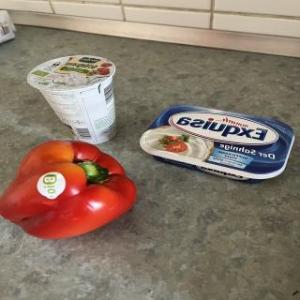bell_pepper: (0, 136, 136, 241)
